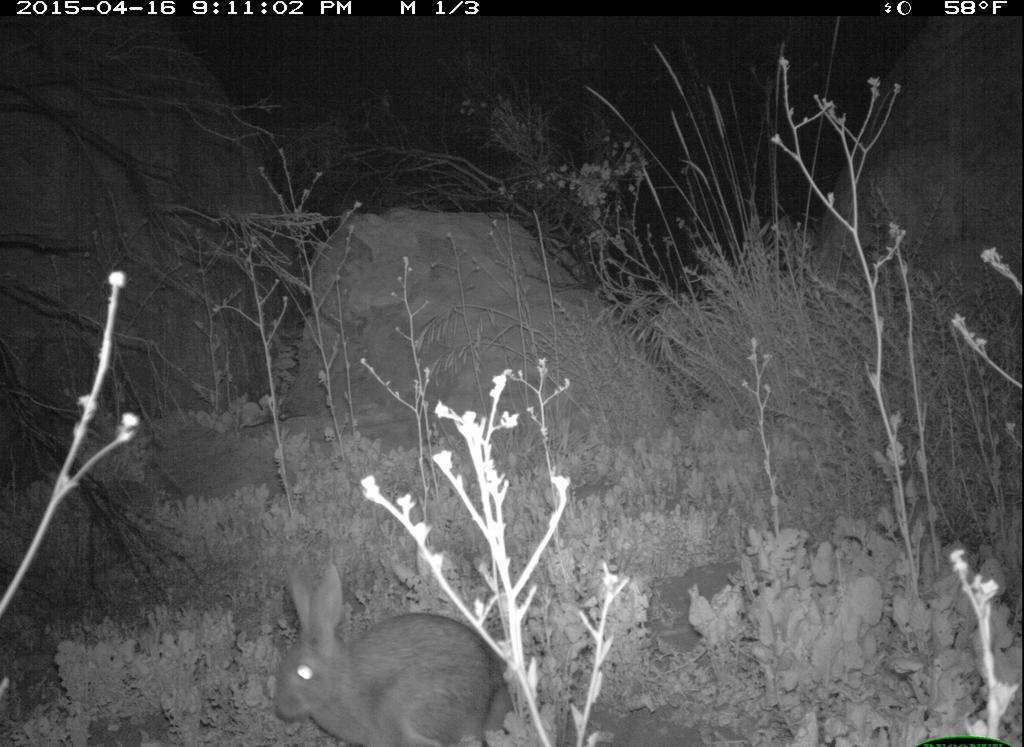rabbit: (241, 564, 533, 743)
